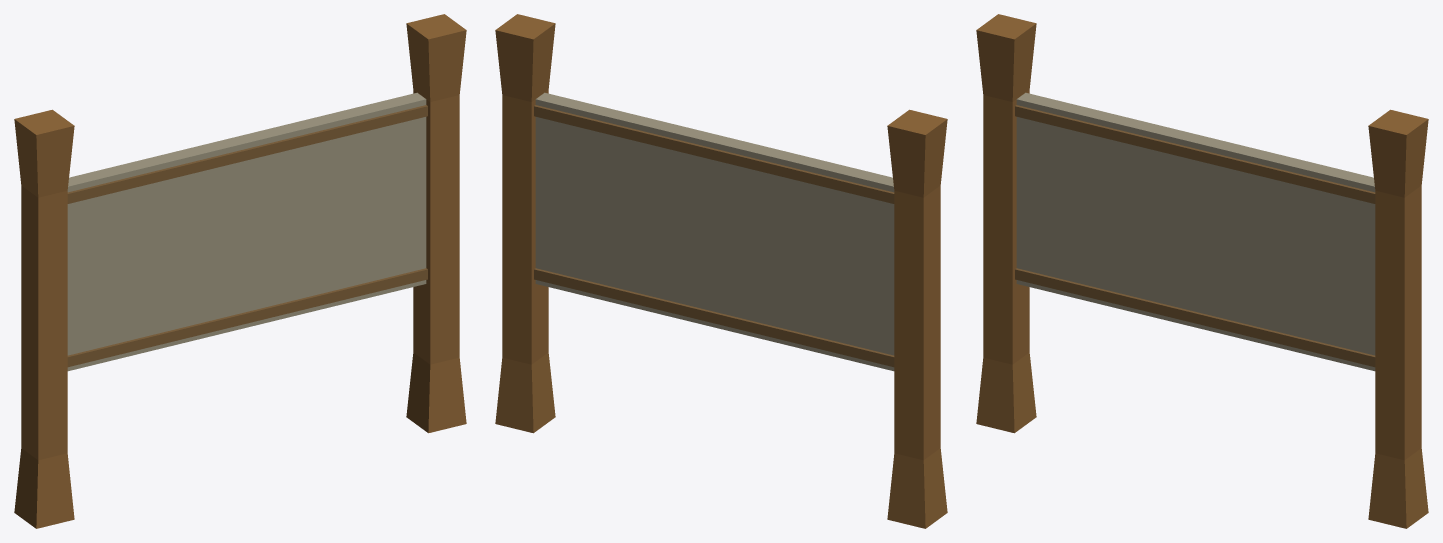
Rendered from JobBoard_Blank.fbx.
3 views of the same model, side by side, from view 1: azimuth 30°, elevation 25°; view 2: azimuth 150°, elevation 25°; view 3: azimuth 330°, elevation 25° (orthographic).
Parts seen in each view (by area): view 1: Cube.352; view 2: Cube.352; view 3: Cube.352.
Boxes of the visible parts, bbox=[...] form: Cube.352: bbox=[14, 14, 466, 528]; Cube.352: bbox=[495, 14, 947, 528]; Cube.352: bbox=[976, 14, 1428, 528].
Bounding box in the file's own units: 0.39 × 4.39 × 3.84.
